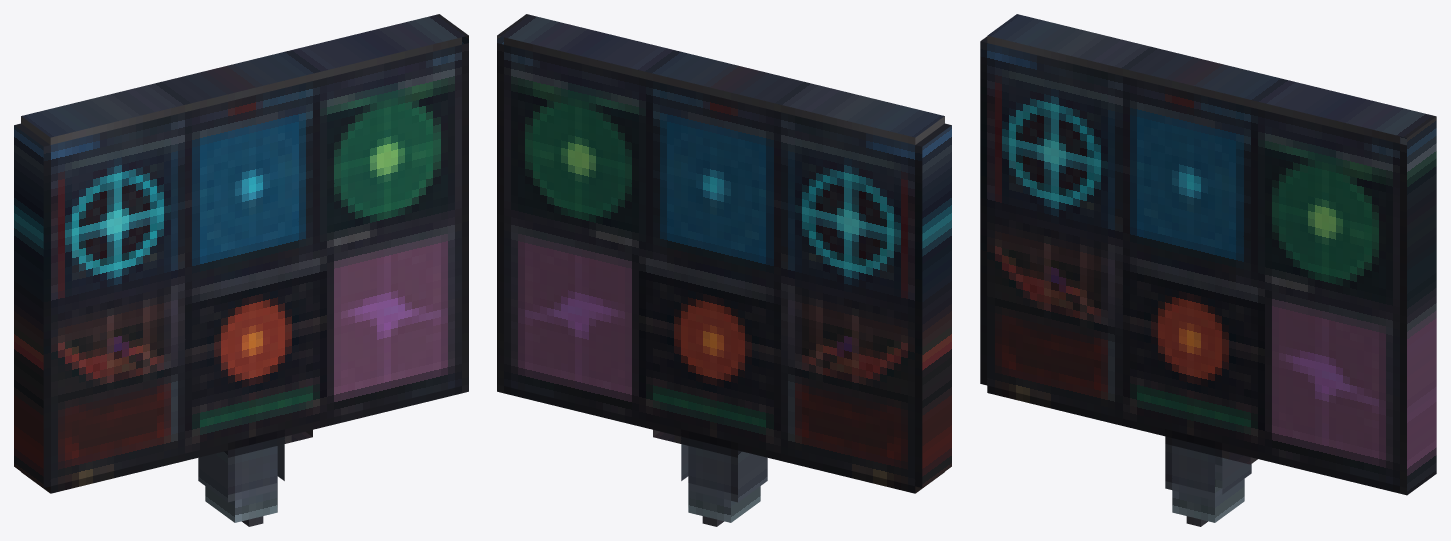
The model's file is screens.obj.
The picture shows the model from 3 angles, left to right: view 1: azimuth 30°, elevation 25°; view 2: azimuth 150°, elevation 25°; view 3: azimuth 330°, elevation 25°; orthographic projection.
Bounding box in the file's own units: 0.7902 × 0.777 × 0.0948.
